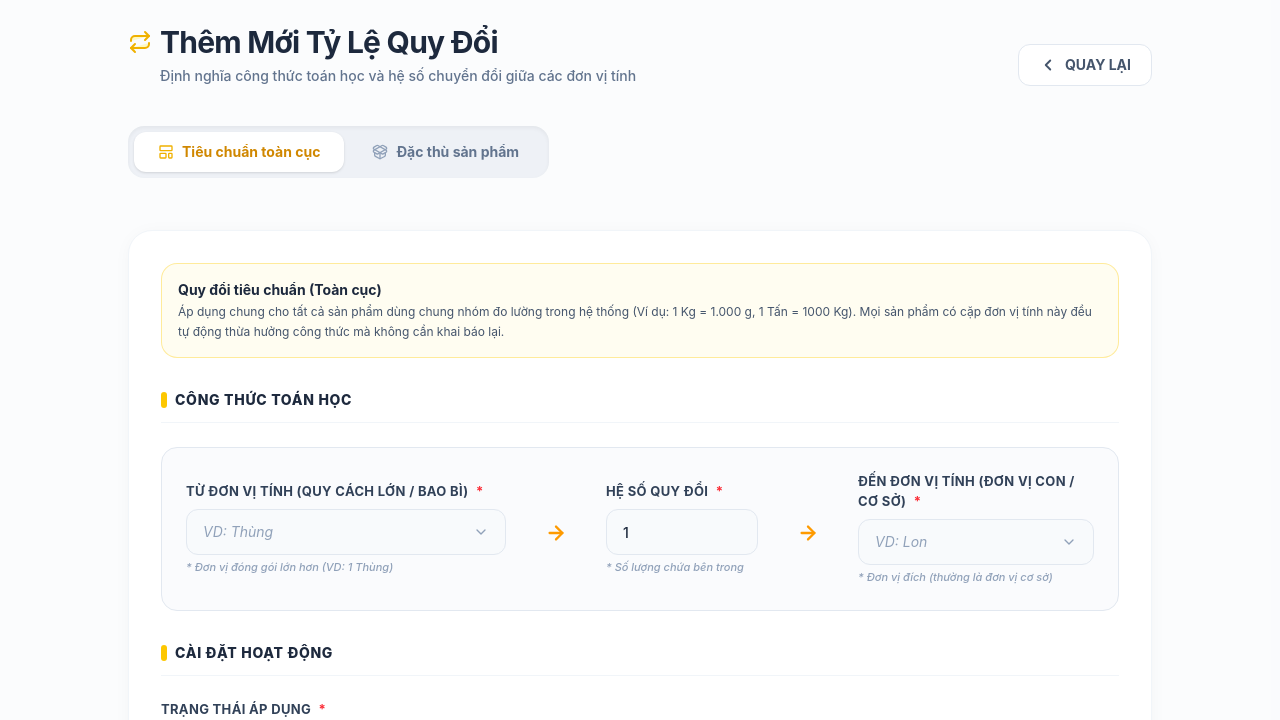
Test: Module 02 - UoMConversionForm Component › TC03 - Chuyển sang Tab "Đặc thù sản phẩm" hiển thị selector chọn Sản phẩm
Click the button "Đặc thù sản phẩm": x=446, y=152 [348,132,543,172]
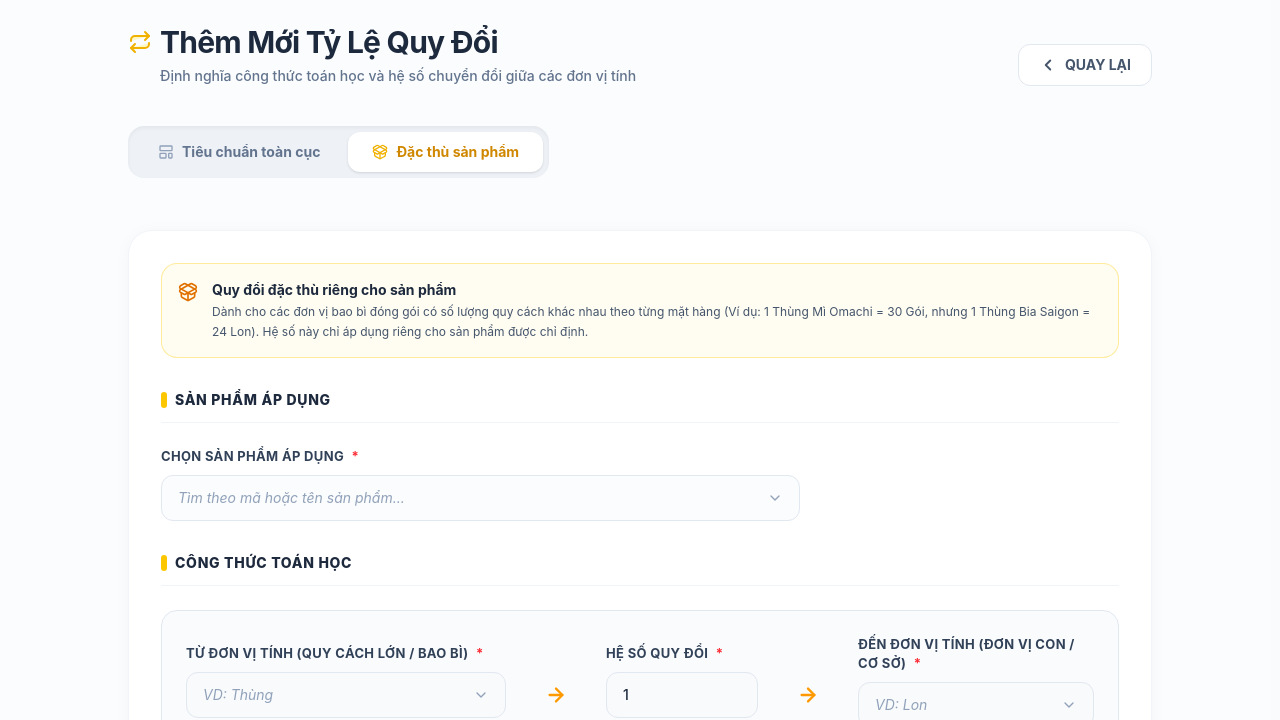
expect the text "Chọn sản phẩm áp dụng" is shown: met, box [161,448,344,464]
